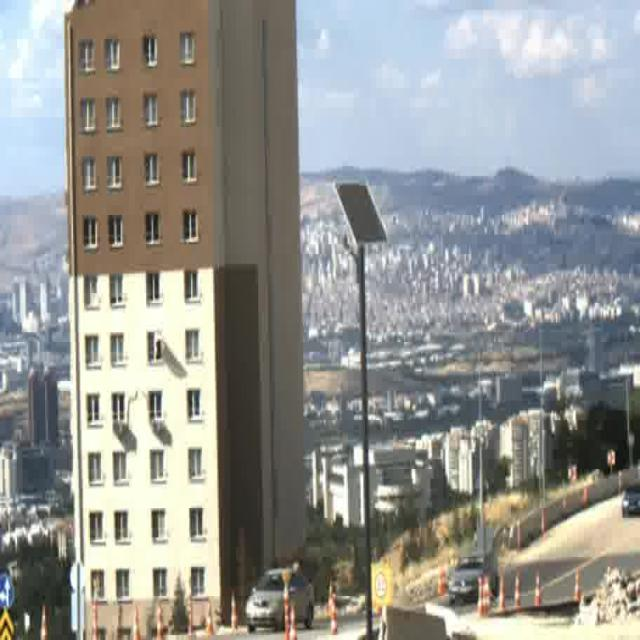Car: (247, 566, 317, 632), (448, 546, 499, 606), (622, 484, 639, 520)
